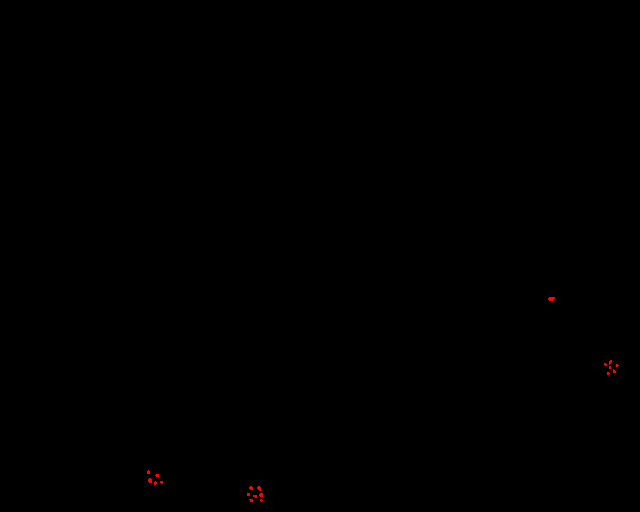Target: (548, 297, 555, 301), (148, 478, 152, 483), (257, 486, 261, 491), (249, 486, 253, 490), (259, 493, 263, 497), (609, 360, 612, 365), (613, 369, 616, 373), (147, 470, 150, 474), (155, 474, 159, 477), (154, 481, 157, 485), (253, 495, 257, 498), (249, 499, 253, 502), (604, 363, 607, 366), (616, 364, 619, 367), (607, 372, 610, 375), (160, 481, 163, 484), (247, 493, 250, 496), (260, 499, 263, 502), (609, 366, 611, 369)
